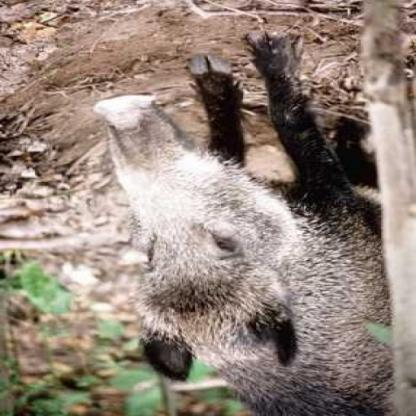boar: (76, 27, 415, 416)
